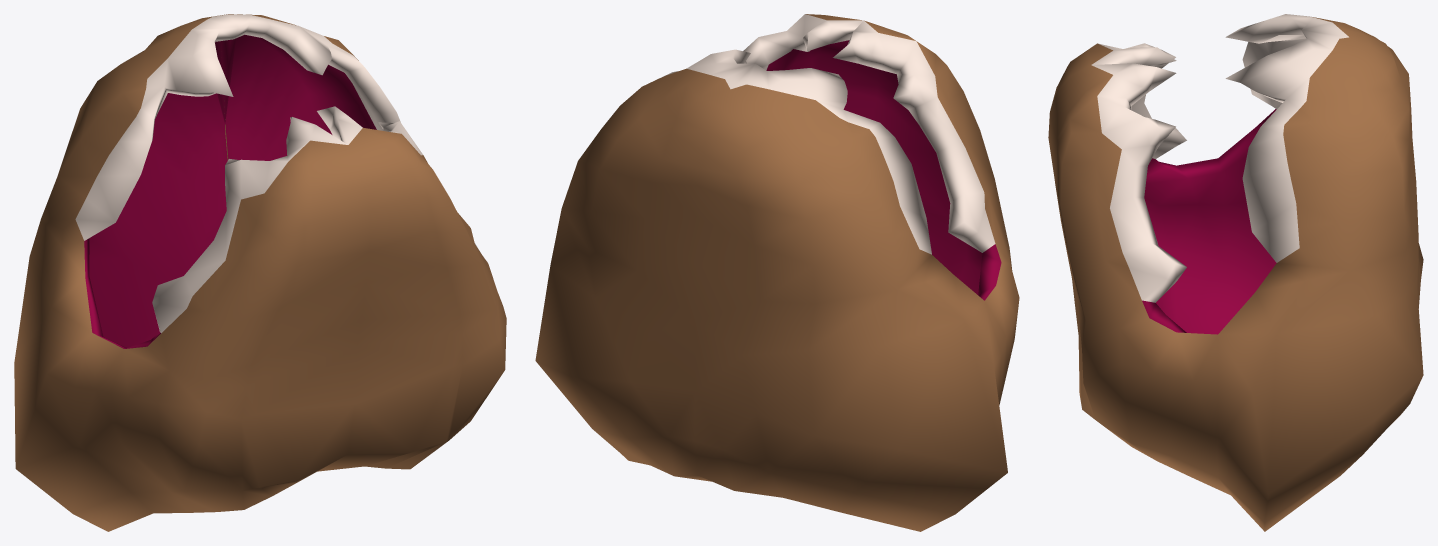
The model's file is Placodermian.fbx.
3 views of the same model, side by side, from view 1: azimuth 30°, elevation 25°; view 2: azimuth 150°, elevation 25°; view 3: azimuth 270°, elevation 25° (orthographic). The views are drawn at different scales.
Visible parts, largest first — view 1: Placodermian - MAVG; view 2: Placodermian - MAVG; view 3: Placodermian - MAVG.
Part boxes in pixels (box(x1,y1,x2,y2)): Placodermian - MAVG: box(14, 14, 506, 531); Placodermian - MAVG: box(535, 14, 1019, 531); Placodermian - MAVG: box(1048, 14, 1423, 531).
Bounding box in the file's own units: 85.45 × 77.31 × 60.75.
